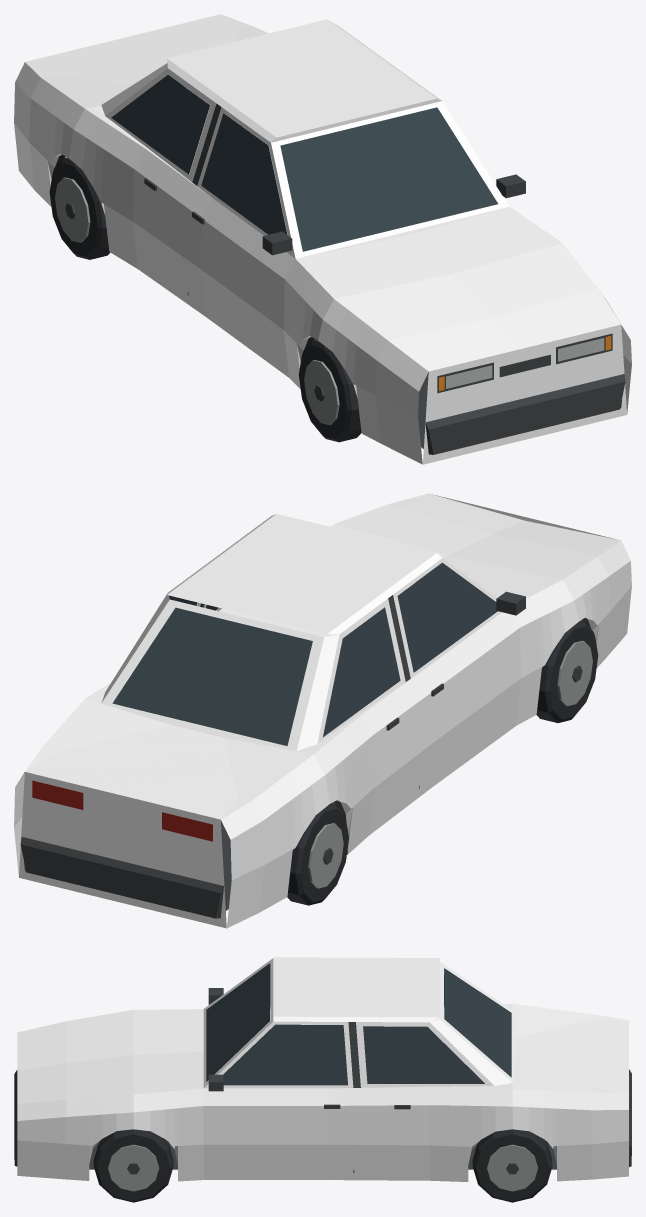
Rendered from saulieu_hirondelle_s.glb.
The picture shows the model from 3 angles, top to bottom: view 1: azimuth 30°, elevation 25°; view 2: azimuth 150°, elevation 25°; view 3: azimuth 270°, elevation 25°; orthographic projection. The views are drawn at different scales.
Visible parts, largest first — view 1: saulieu_hirondelle_s; view 2: saulieu_hirondelle_s; view 3: saulieu_hirondelle_s.
Boxes of the visible parts, x1,y1,x2,y2 form: saulieu_hirondelle_s: (14,14,631,464); saulieu_hirondelle_s: (14,493,631,928); saulieu_hirondelle_s: (14,957,631,1202).
Bounding box in the file's own units: 1.83 × 1.5 × 4.94.
Materials: 8 (1 with a texture image).
